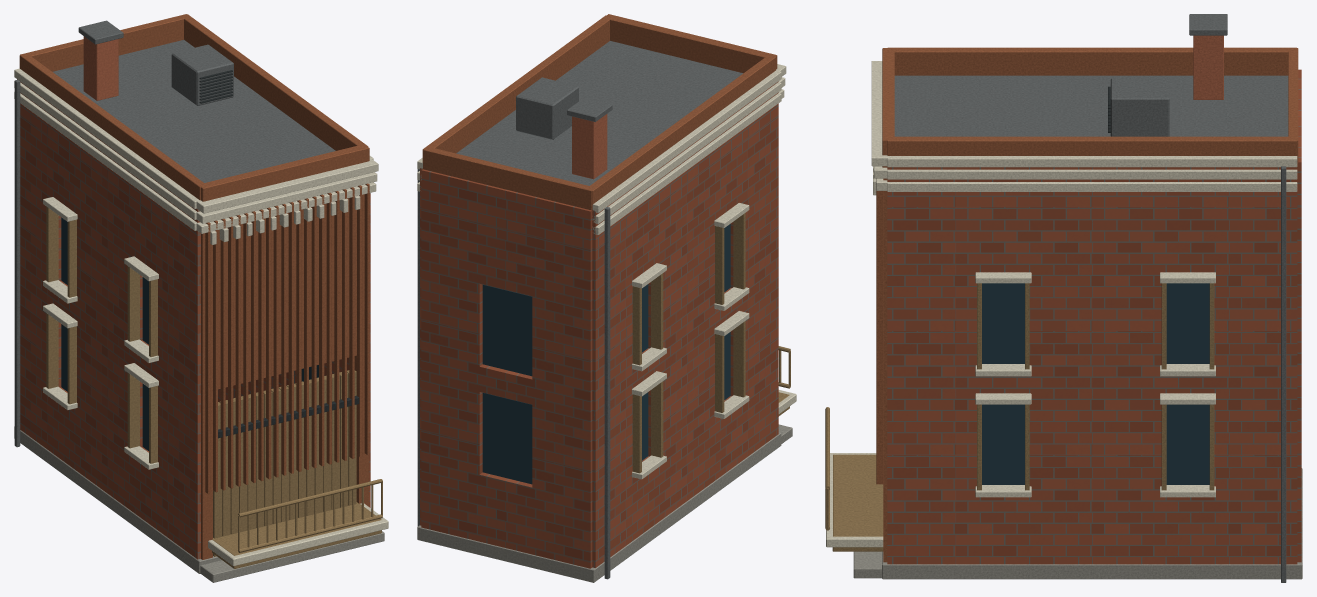
File: WHSE16_lod1.glb
3 renders of one model, left to right at view 1: azimuth 30°, elevation 25°; view 2: azimuth 150°, elevation 25°; view 3: azimuth 270°, elevation 25°, orthographic. The views are drawn at different scales.
Parts seen in each view (by area): view 1: WHSE16_LOD1; view 2: WHSE16_LOD1; view 3: WHSE16_LOD1.
Part boxes in pixels (x1,y1,x2,y2): WHSE16_LOD1: (14, 14, 388, 582); WHSE16_LOD1: (417, 14, 796, 582); WHSE16_LOD1: (825, 14, 1302, 582).
Size of the model in its own units: 3.71 by 7.85 by 6.98.
Materials: 9 (8 with a texture image).
